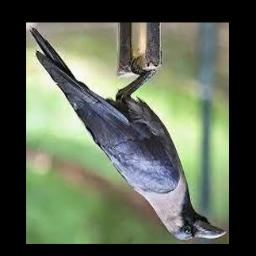Crow: (31, 27, 227, 240)
